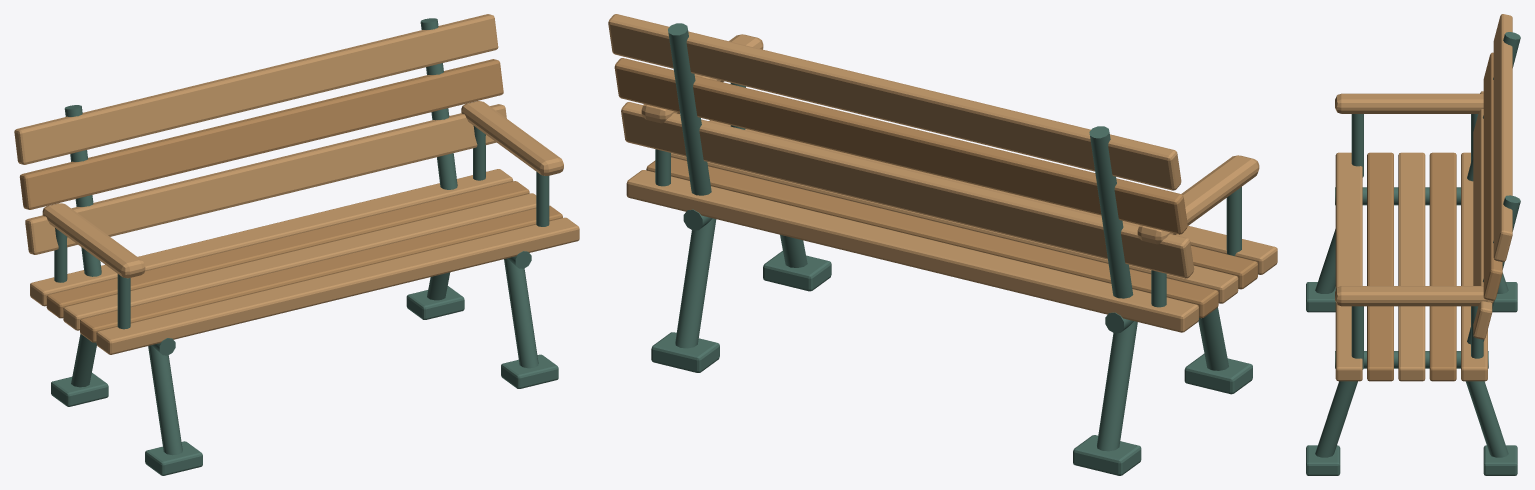
File: bench_classic_wood_metal.glb
The picture shows the model from 3 angles, left to right: view 1: azimuth 30°, elevation 25°; view 2: azimuth 150°, elevation 25°; view 3: azimuth 270°, elevation 25°; orthographic projection. The views are drawn at different scales.
Visible parts, largest first — view 1: Wooden backrest slat.002, Wooden backrest slat.001, Wooden backrest slat, Wooden seat slat, Wooden seat slat.003, Wooden seat slat.002, Wooden seat slat.001, Wooden seat slat.004, Wooden bench armrest, Wooden bench armrest.001, Splayed metal bench leg, Splayed metal bench leg.002 (+11 smaller); view 2: Wooden backrest slat.001, Wooden backrest slat.002, Wooden backrest slat, Wooden seat slat.004, Wooden seat slat.003, Wooden seat slat.002, Reclined back support, Reclined back support.001, Wooden bench armrest, Splayed metal bench leg.003, Splayed metal bench leg.001, Wooden seat slat (+9 smaller); view 3: Wooden seat slat.002, Wooden seat slat.003, Wooden seat slat.001, Wooden seat slat, Wooden backrest slat.002, Wooden bench armrest.001, Wooden bench armrest, Wooden backrest slat.001, Wooden seat slat.004, Wooden backrest slat, Splayed metal bench leg.002, Splayed metal bench leg.003 (+12 smaller).
Boxes of the visible parts, x1,y1,x2,y2 form: Wooden backrest slat.002: (14,14,498,164); Wooden backrest slat.001: (19,59,503,209); Wooden backrest slat: (25,104,506,254); Wooden seat slat: (96,217,579,354); Wooden seat slat.003: (46,181,529,318); Wooden seat slat.002: (63,193,536,330); Wooden seat slat.001: (80,205,562,342); Wooden seat slat.004: (30,169,513,306); Wooden bench armrest: (42,203,145,278); Wooden bench armrest.001: (461,101,563,175); Splayed metal bench leg: (148,345,182,455); Splayed metal bench leg.002: (504,258,538,368); Wooden backrest slat.001: (614,58,1187,234); Wooden backrest slat.002: (608,14,1181,190); Wooden backrest slat: (621,102,1194,278); Wooden seat slat.004: (626,170,1198,332); Wooden seat slat.003: (646,157,1218,318); Wooden seat slat.002: (671,153,1238,303); Reclined back support: (1089,126,1133,298); Reclined back support.001: (668,23,711,195); Wooden bench armrest: (1137,155,1259,244); Splayed metal bench leg.003: (675,218,716,348); Splayed metal bench leg.001: (1097,321,1137,451); Wooden seat slat: (709,120,1277,274); Wooden seat slat.002: (1398,152,1425,381); Wooden seat slat.003: (1429,152,1456,381); Wooden seat slat.001: (1367,152,1393,381); Wooden seat slat: (1335,152,1362,381); Wooden backrest slat.002: (1493,14,1512,262); Wooden bench armrest.001: (1335,286,1493,306); Wooden bench armrest: (1335,93,1483,113); Wooden backrest slat.001: (1483,52,1502,300); Wooden seat slat.004: (1461,152,1487,381); Wooden backrest slat: (1473,91,1492,339); Splayed metal bench leg.002: (1315,381,1357,457); Splayed metal bench leg.003: (1465,381,1508,457).
Size of the model in its own units: 1.82 by 1.05 by 0.7552.
